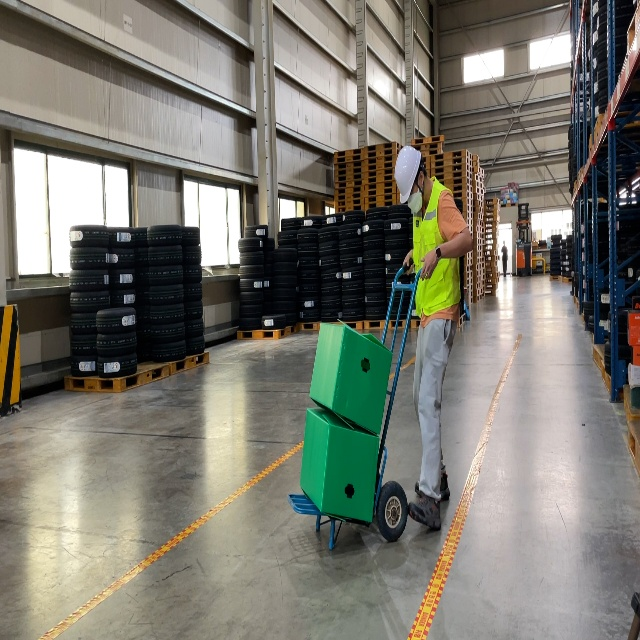Box: (309, 319, 393, 435), (299, 407, 380, 523)
Worker: (394, 143, 474, 531)
